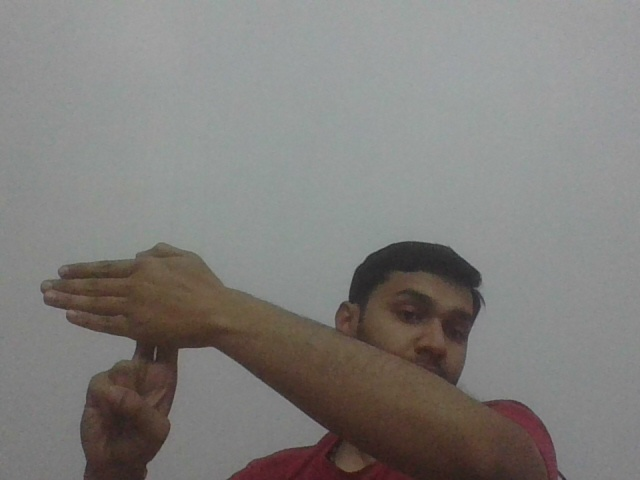N: (38, 241, 215, 370)
